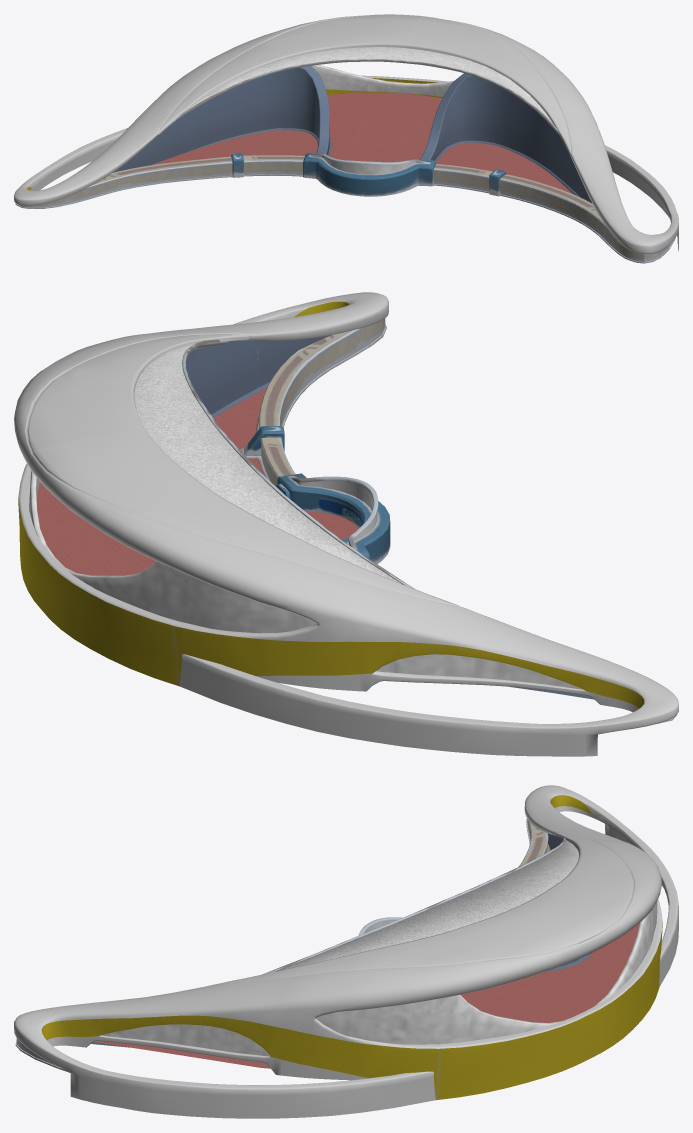
The model's file is pref_sm_beach_winter_techpagoda01_lv3.fbx.
3 views of the same model, one above another, from view 1: azimuth 30°, elevation 25°; view 2: azimuth 150°, elevation 25°; view 3: azimuth 270°, elevation 25° (orthographic). The views are drawn at different scales.
Parts seen in each view (by area): view 1: sm_beach_techpagoda01_d_lv3, sm_beach_techpagoda01_e_lv3, sm_beach_techpagoda01_b_lv3, sm_beach_techpagoda01_c_lv3, sm_beach_techpagoda01_a_lv3; view 2: sm_beach_techpagoda01_c_lv3, sm_beach_techpagoda01_d_lv3, sm_beach_techpagoda01_a_lv3, sm_beach_techpagoda01_e_lv3, sm_beach_techpagoda01_b_lv3; view 3: sm_beach_techpagoda01_b_lv3, sm_beach_techpagoda01_d_lv3, sm_beach_techpagoda01_a_lv3, sm_beach_techpagoda01_c_lv3, sm_beach_techpagoda01_e_lv3.
Boxes of the visible parts, x1,y1,x2,y2 form: sm_beach_techpagoda01_d_lv3: [151, 59, 676, 263]; sm_beach_techpagoda01_e_lv3: [15, 59, 406, 208]; sm_beach_techpagoda01_b_lv3: [404, 16, 678, 253]; sm_beach_techpagoda01_c_lv3: [14, 14, 420, 205]; sm_beach_techpagoda01_a_lv3: [187, 47, 553, 174]; sm_beach_techpagoda01_c_lv3: [29, 431, 678, 756]; sm_beach_techpagoda01_d_lv3: [18, 301, 390, 609]; sm_beach_techpagoda01_a_lv3: [29, 341, 582, 689]; sm_beach_techpagoda01_e_lv3: [42, 425, 677, 724]; sm_beach_techpagoda01_b_lv3: [14, 292, 388, 545]; sm_beach_techpagoda01_b_lv3: [14, 911, 580, 1118]; sm_beach_techpagoda01_d_lv3: [15, 847, 639, 1100]; sm_beach_techpagoda01_a_lv3: [102, 840, 657, 1056]; sm_beach_techpagoda01_c_lv3: [507, 785, 678, 1020]; sm_beach_techpagoda01_e_lv3: [474, 795, 662, 1058].
Size of the model in its own units: 48.73 by 9.83 by 45.2.
